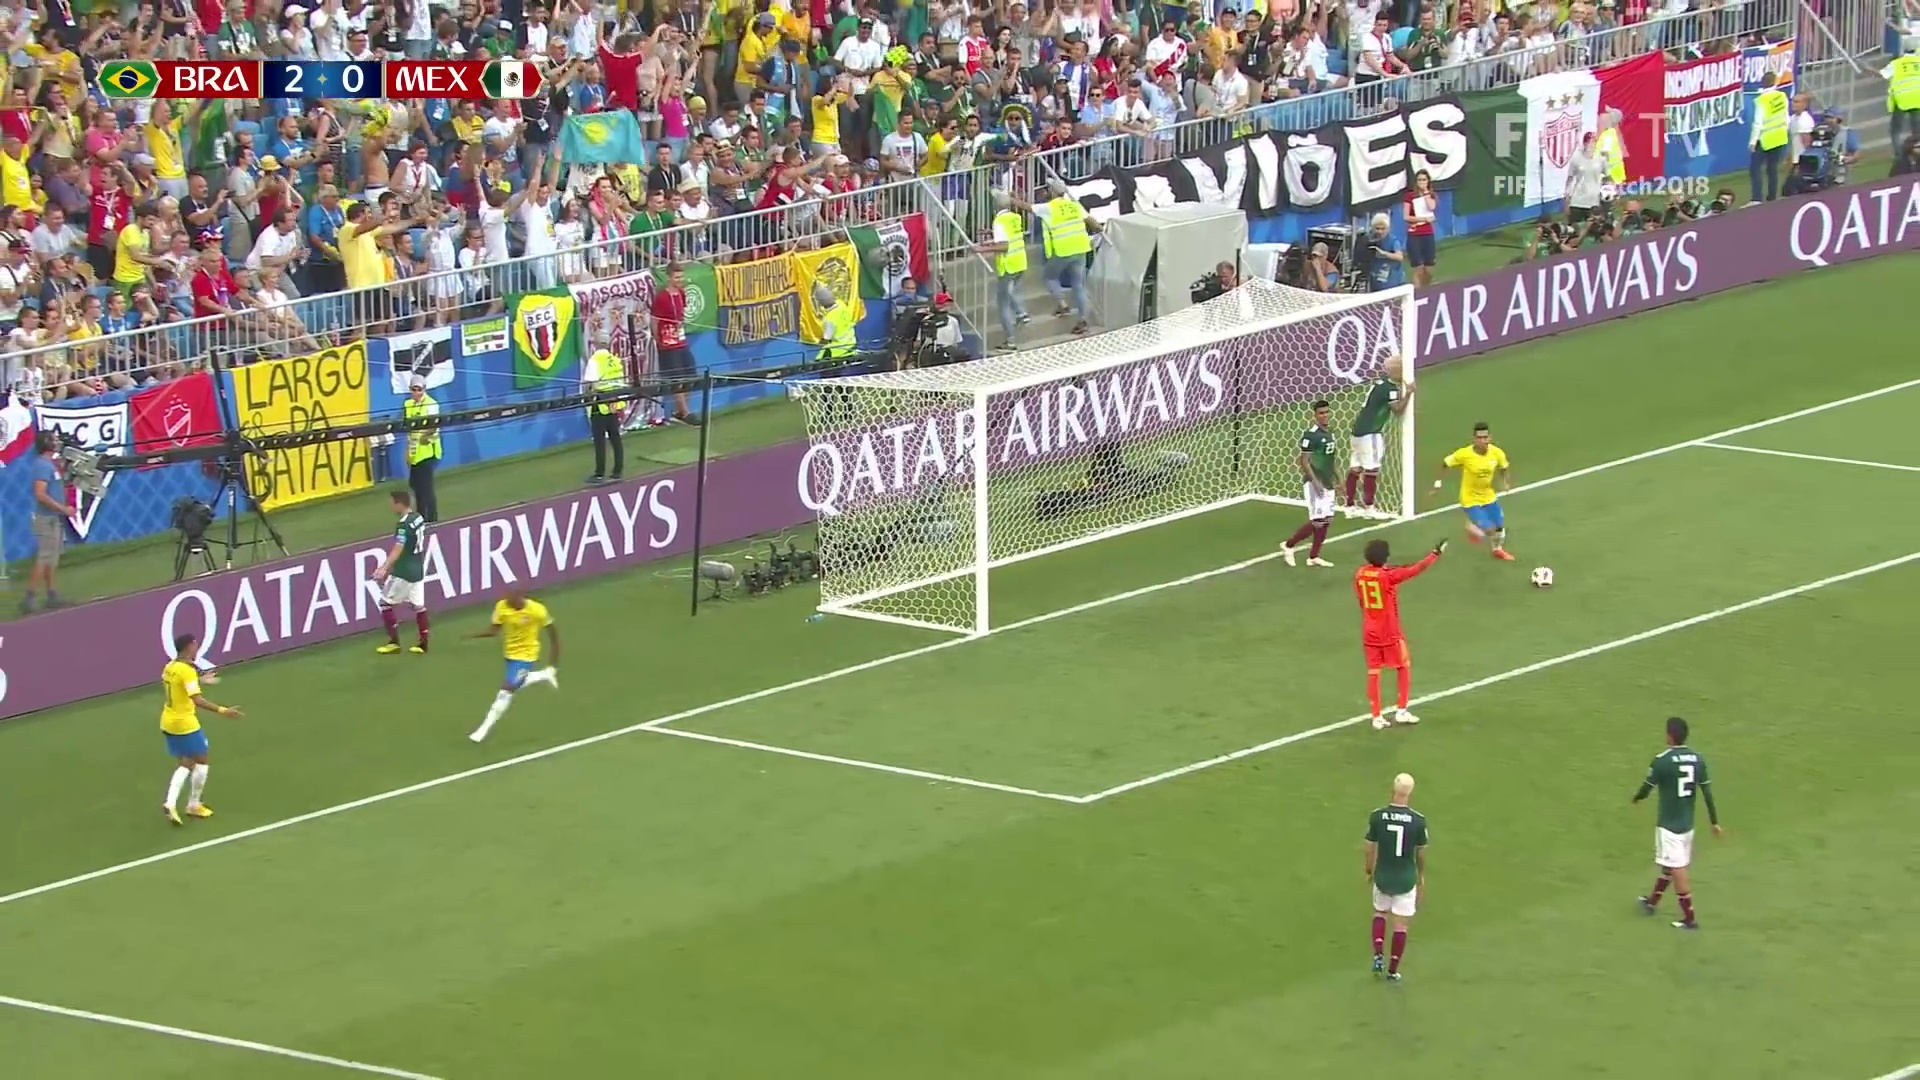ball: (1533, 568, 1551, 588)
person: (457, 584, 562, 747), (1639, 715, 1702, 928), (1357, 543, 1427, 726), (1366, 775, 1429, 977), (1434, 419, 1514, 557), (162, 634, 221, 817), (374, 490, 430, 652), (1347, 358, 1399, 524), (1283, 399, 1335, 559)
